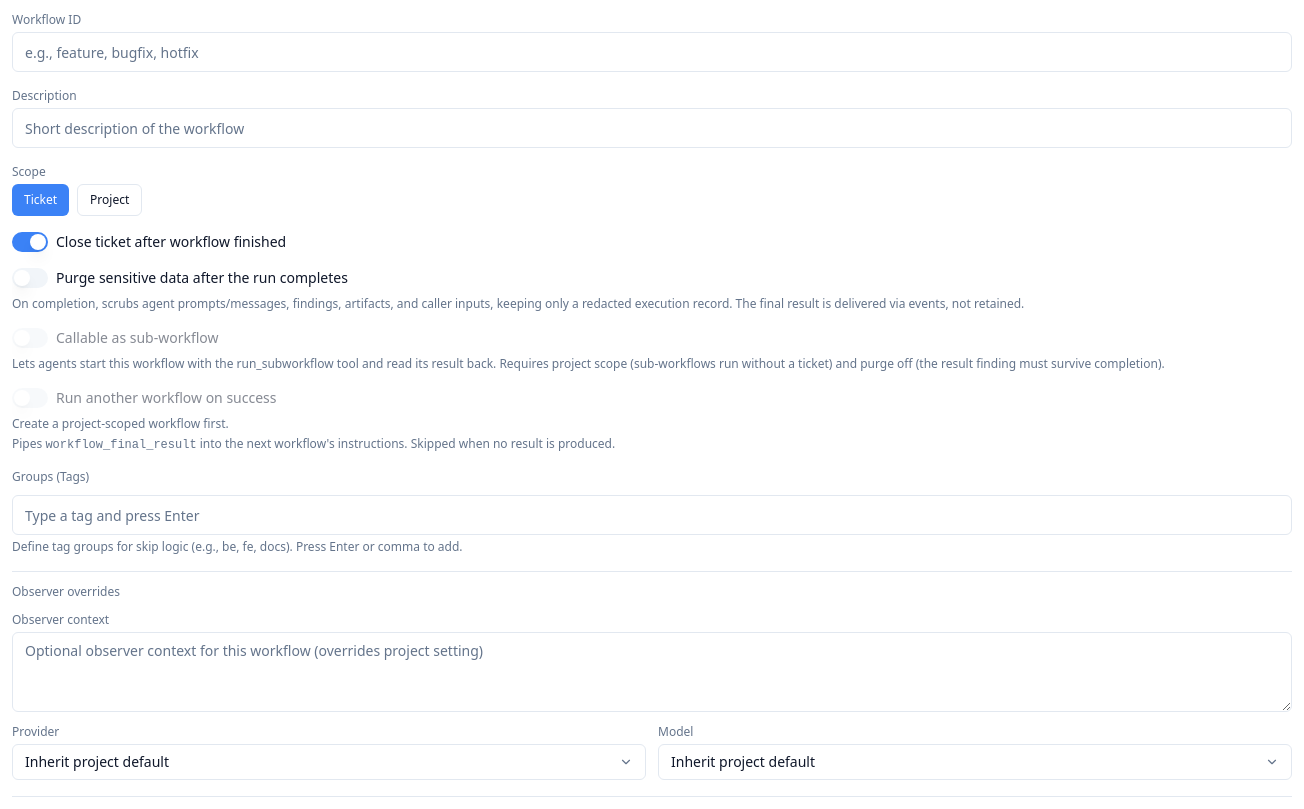
Scenario: WorkflowDefForm - groups chip input › adding chips › adds chip on Enter key
Type "be" into the field with placeholder "Type a tag and press Enter" at (652, 515), box [12,495,1292,535]
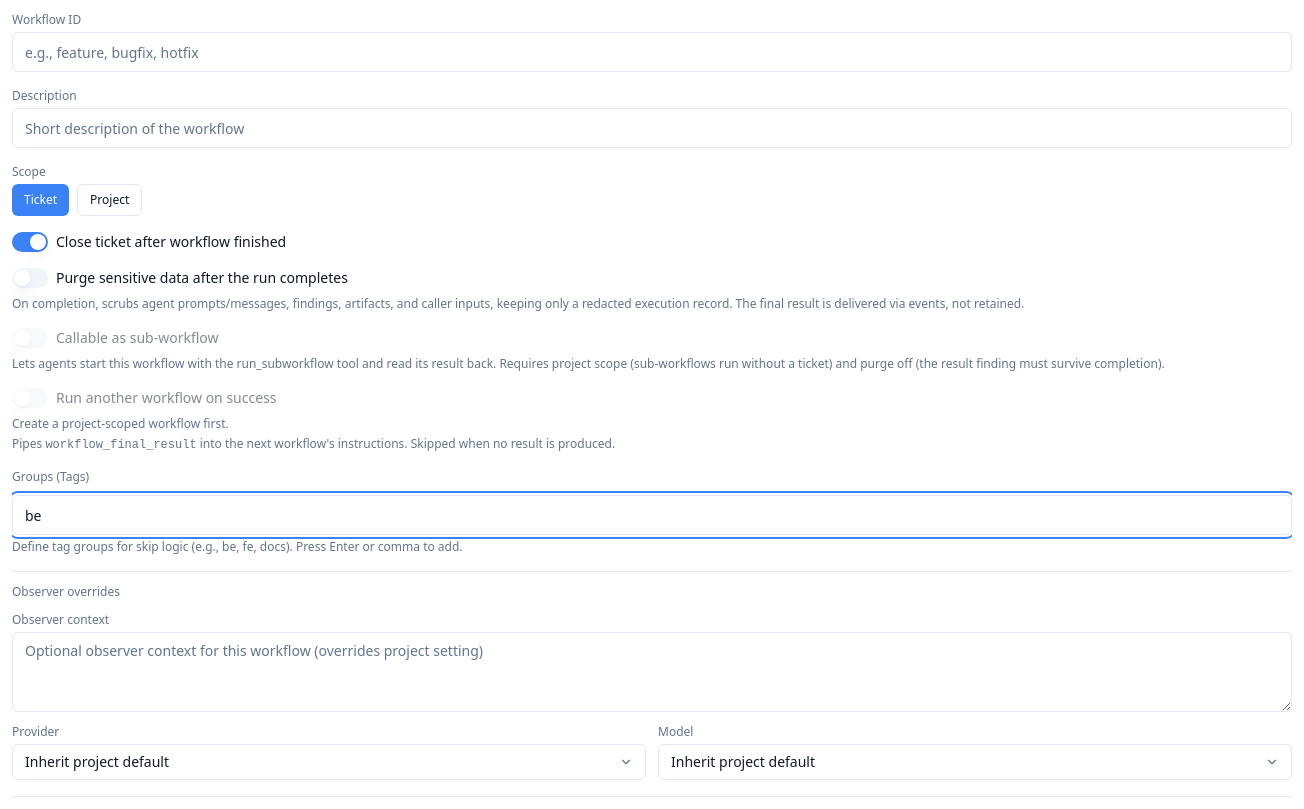
Press Enter
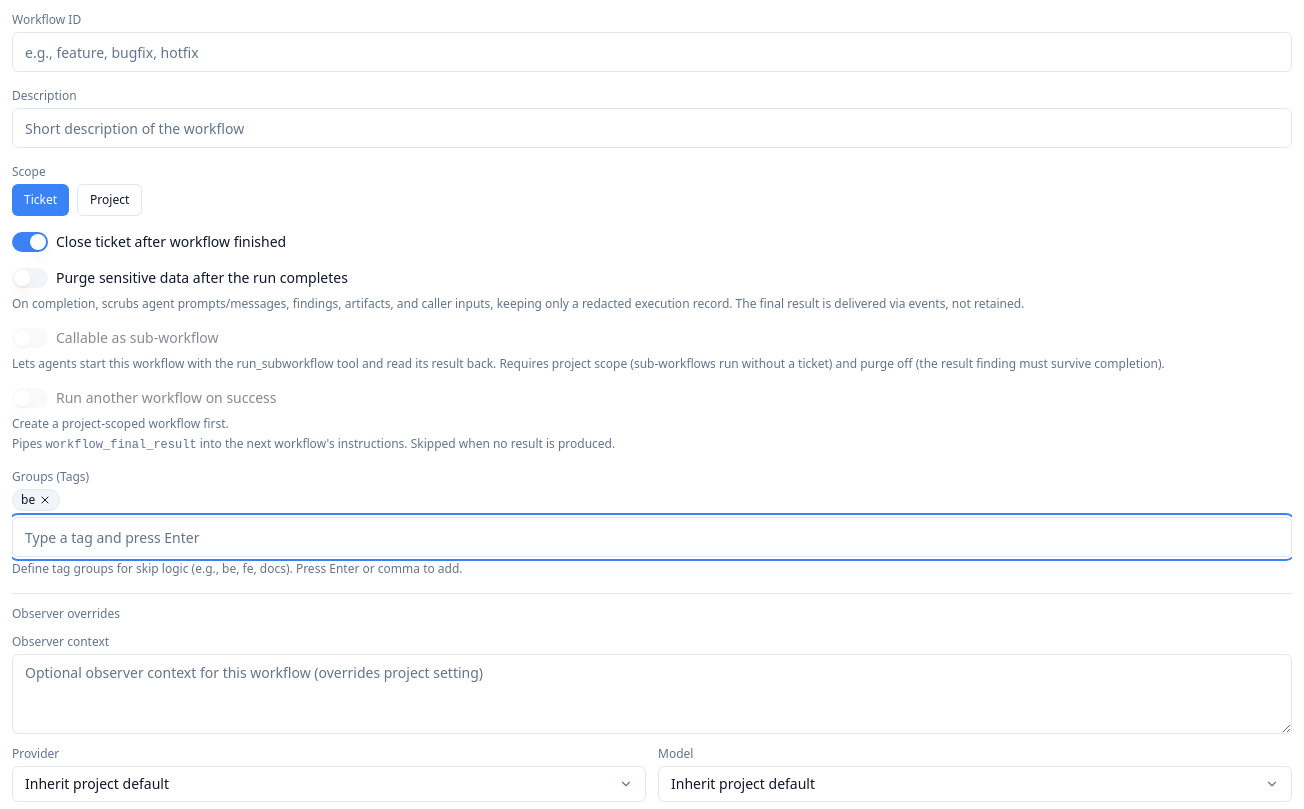
Check: the text "be" is shown, box [12,489,60,511]
Check: the field with placeholder "Type a tag and press Enter" is empty, box [12,517,1292,557]
